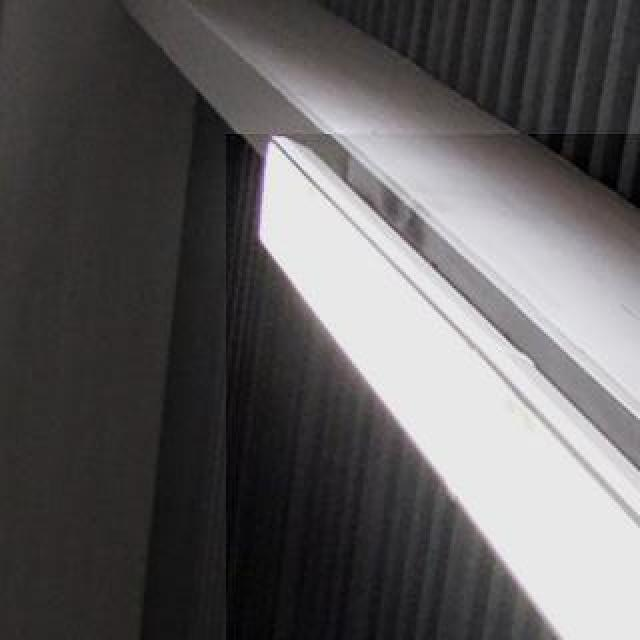fluorescent tube: (232, 132, 640, 640)
